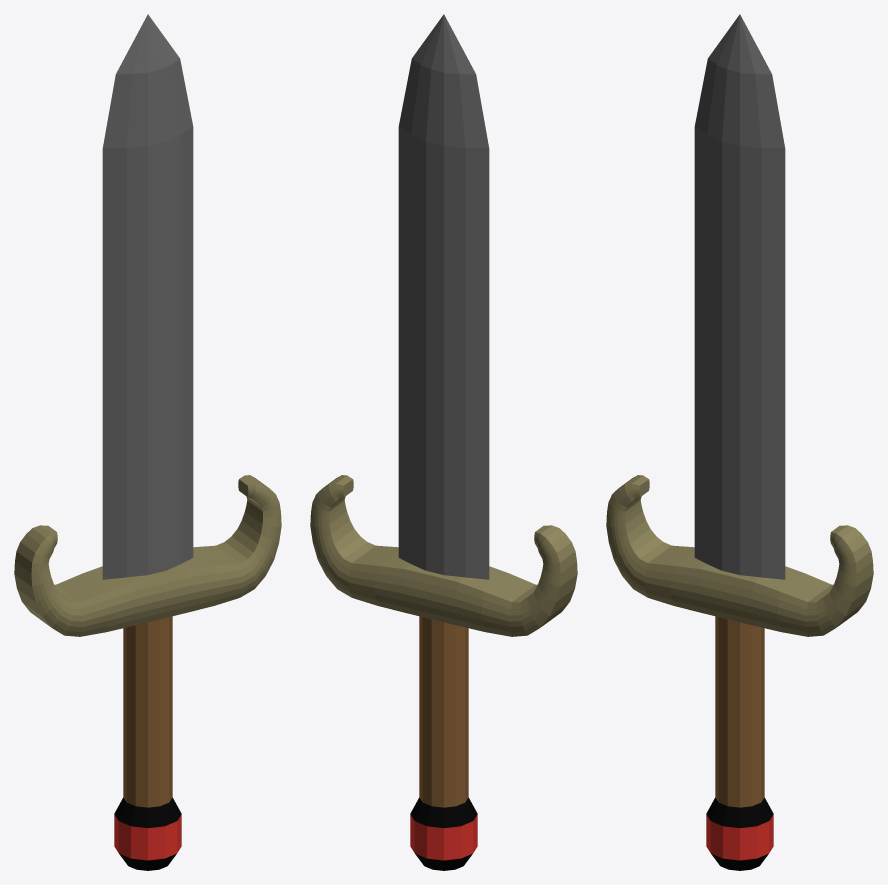
The model's file is PalladinSword.fbx.
3 renders of one model, left to right at view 1: azimuth 30°, elevation 25°; view 2: azimuth 150°, elevation 25°; view 3: azimuth 330°, elevation 25°, orthographic.
Visible parts, largest first — view 1: Куб.001; view 2: Куб.001; view 3: Куб.001.
Boxes of the visible parts, box(x1,y1,x2,y2) form: Куб.001: box(14, 14, 281, 870); Куб.001: box(310, 14, 577, 870); Куб.001: box(606, 14, 873, 870).
Size of the model in its own units: 155 by 501 by 36.22.
